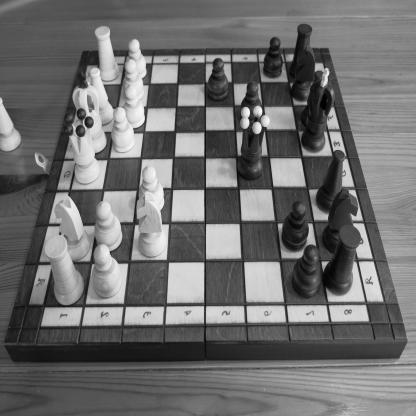black-bishop: (315, 149, 346, 213), (301, 70, 324, 129)
black-king: (300, 67, 336, 154)
black-knight: (322, 187, 359, 254), (290, 45, 315, 102)
black-pawn: (291, 244, 322, 299), (281, 200, 310, 253), (207, 57, 229, 102), (240, 80, 262, 124), (263, 36, 283, 80)
black-queen: (237, 105, 270, 181)
black-rook: (322, 224, 362, 296), (289, 23, 313, 78)
white-bishop: (90, 67, 114, 126), (1, 96, 22, 153)
white-king: (72, 69, 107, 154)
white-knight: (53, 194, 91, 261), (136, 190, 167, 258)
white-pawn: (91, 244, 122, 300), (94, 200, 123, 253), (138, 165, 165, 212), (109, 107, 134, 153), (123, 84, 145, 129), (122, 59, 145, 101), (127, 38, 147, 80)
white-queen: (63, 107, 100, 184)
white-rook: (44, 234, 85, 307), (94, 25, 120, 82)
